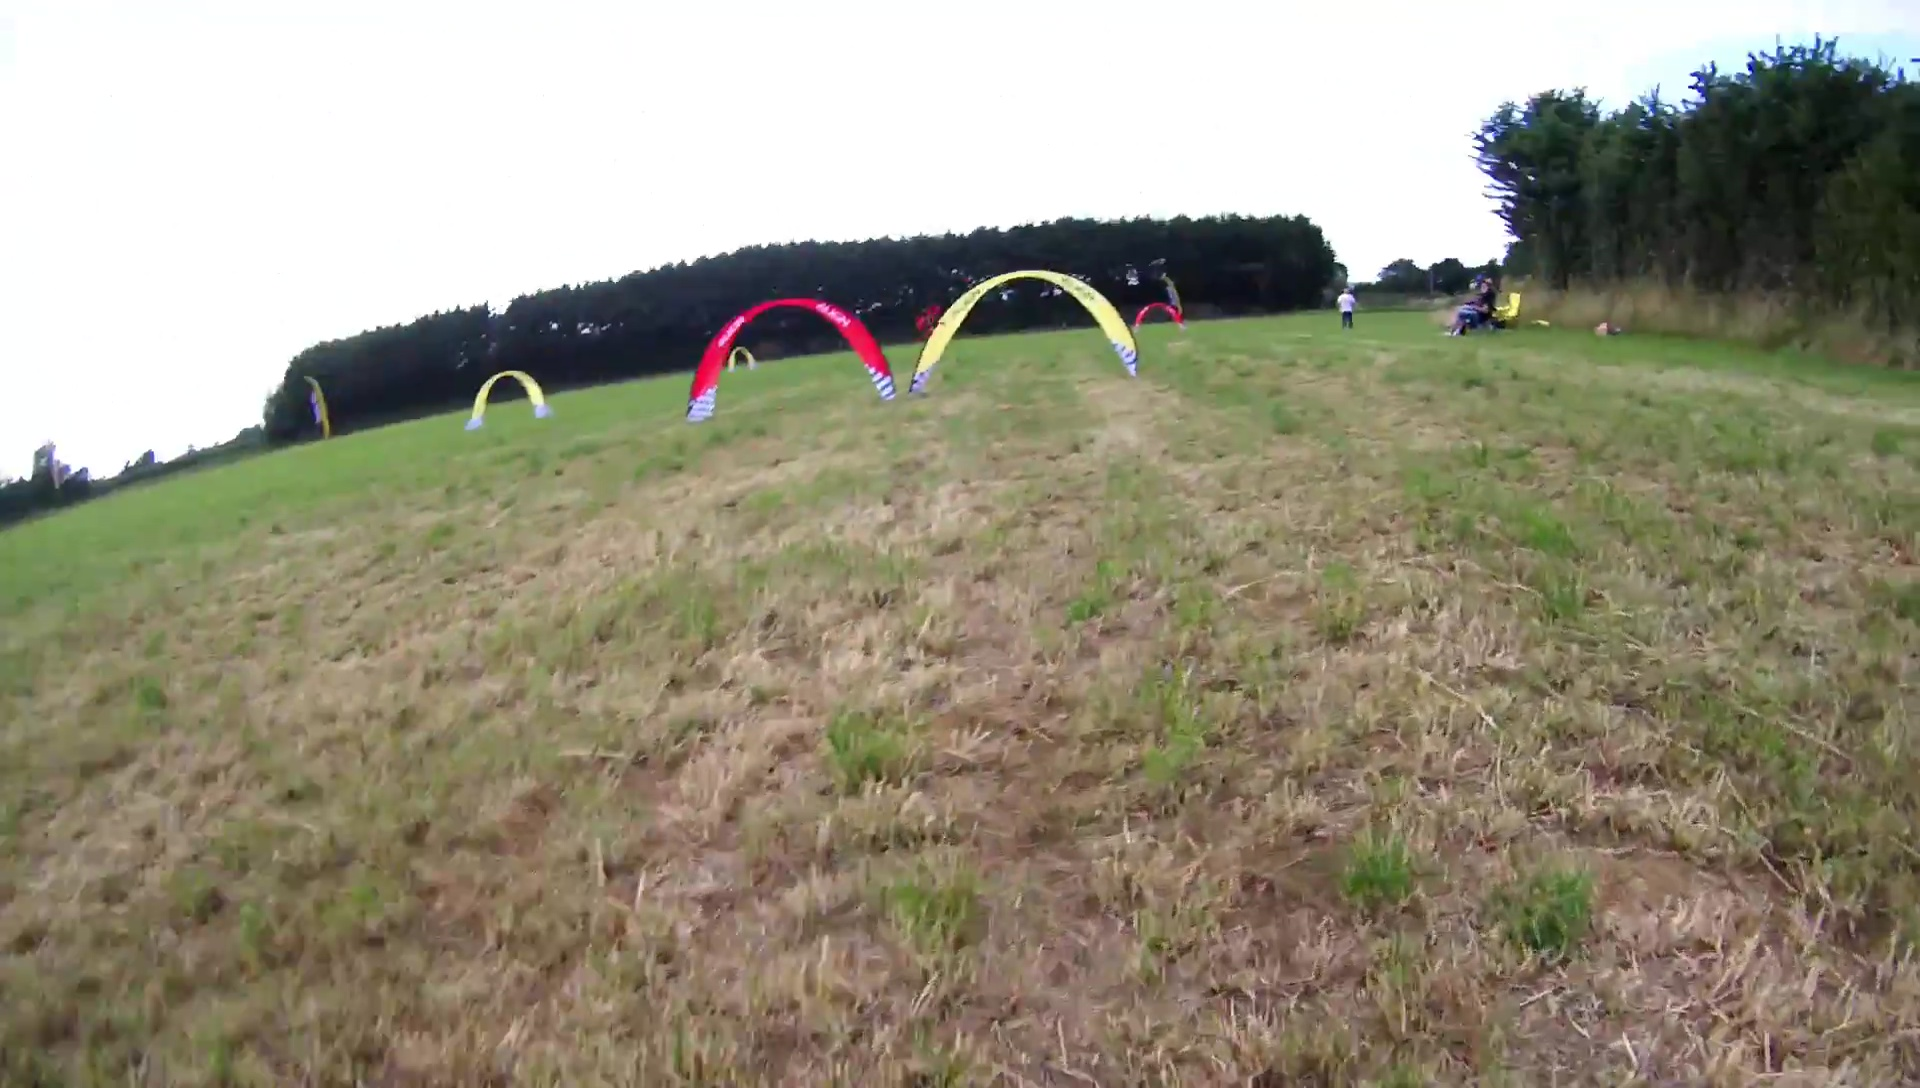gate: (909, 268, 1141, 396), (684, 295, 899, 423), (465, 369, 554, 431), (1134, 299, 1189, 334), (727, 344, 758, 375)
